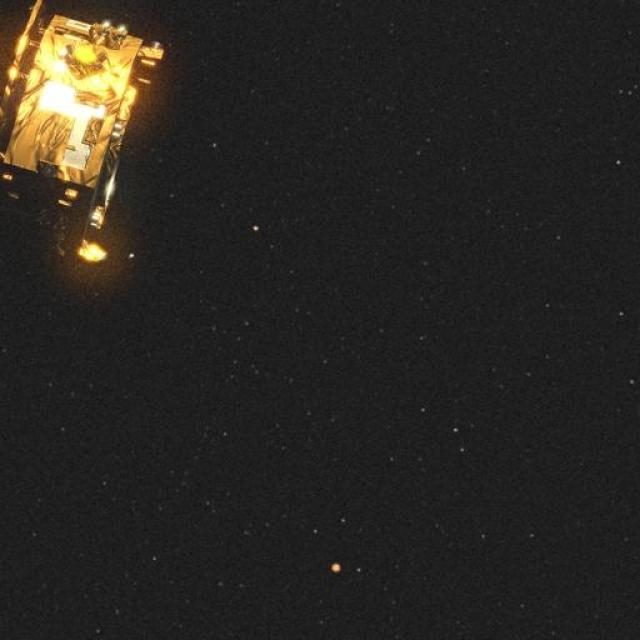lisa_pathfinder: (0, 0, 207, 298)
